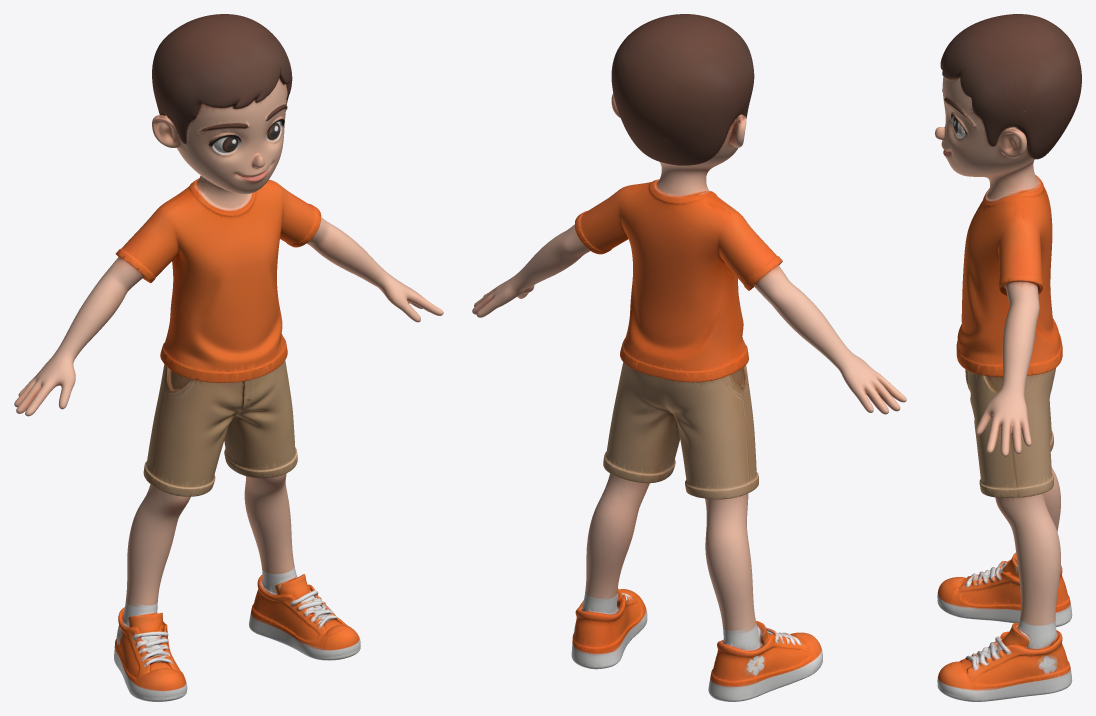
Rendered from Meshy_AI_cartoon_boy_0313145114_texture.fbx.
3 views of the same model, side by side, from view 1: azimuth 30°, elevation 25°; view 2: azimuth 150°, elevation 25°; view 3: azimuth 270°, elevation 25° (orthographic). The views are drawn at different scales.
Visible parts, largest first — view 1: Mesh_0; view 2: Mesh_0; view 3: Mesh_0.
Part boxes in pixels (x1,y1,x2,y2): Mesh_0: (14,14,443,701); Mesh_0: (472,14,906,701); Mesh_0: (935,14,1081,701).
Size of the model in its own units: 138 by 200 by 42.27.
Materials: 1 (1 with a texture image).
